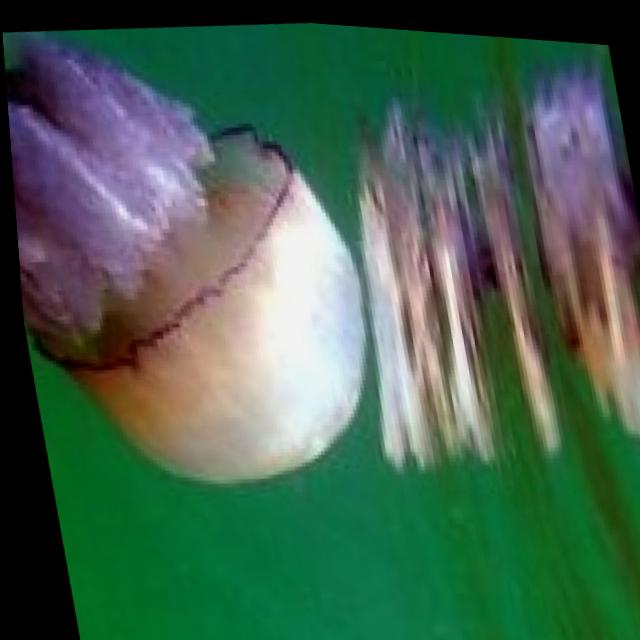Box-jellyfish: (1, 9, 396, 512)
